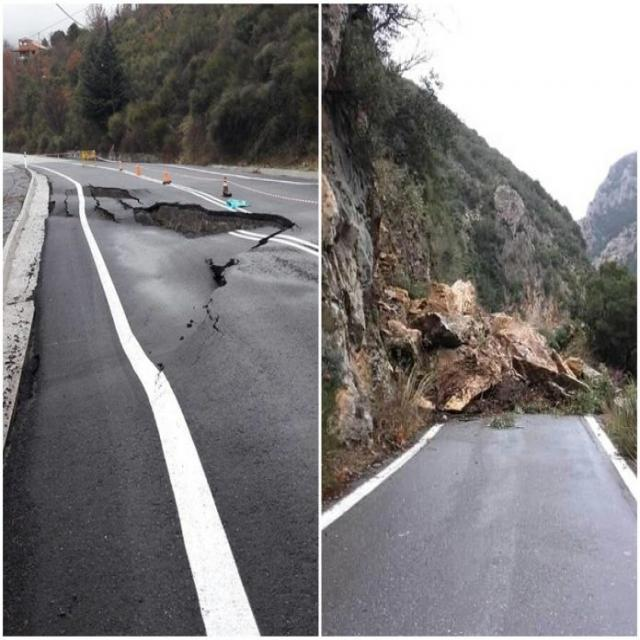landSliding: (21, 135, 317, 464)
